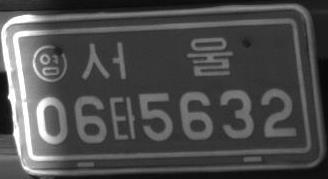0: (35, 96, 68, 145)
2: (260, 87, 297, 138)
3: (219, 88, 254, 139)
5: (137, 92, 173, 142)
6: (179, 90, 214, 141), (73, 94, 107, 144)
서울_D: (81, 36, 232, 80)
영: (31, 44, 67, 82)
타: (108, 95, 136, 140)
